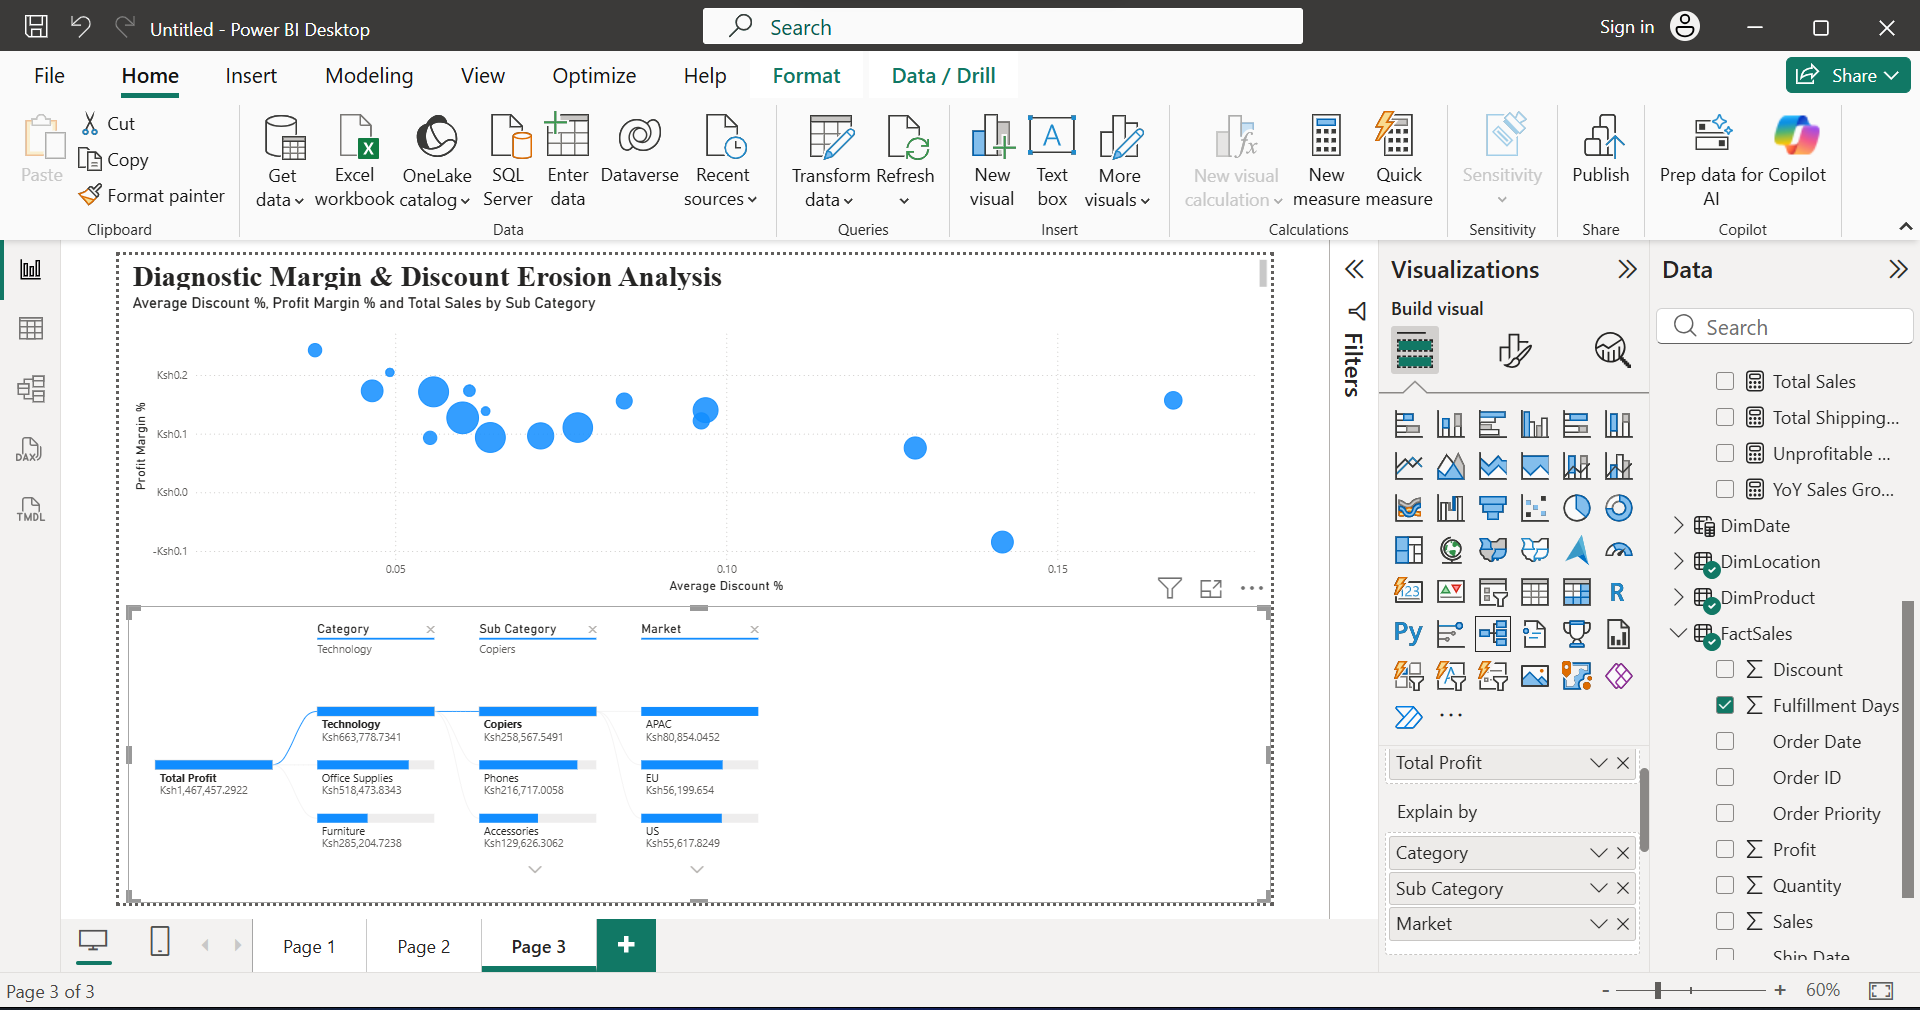

Layout of this report page (visuals, bound fields, positions):
{"tool":"powerbi","page":{"name":"Page 3","canvas":[1280,720],"ordinal":2},"visuals":[{"type":"textbox","box":[10,0,1270,43.3],"z":0},{"type":"scatterChart","fields":{"Category":["DimProduct.Sub Category"],"X":["DimCustomer.Average Discount %"],"Y":["DimCustomer.Profit Margin %"],"Size":["DimCustomer.Total Sales"]},"box":[10,43.3,1270,336.7],"z":1},{"type":"decompositionTreeVisual","fields":{"Analyze":["DimCustomer.Total Profit"],"ExplainBy":["DimProduct.Category","DimProduct.Sub Category","DimLocation.Market"]},"box":[10,390,1270,330],"z":2}]}

Visuals, with their boxes on the page's 1280x720 design canvas (x1, y1, x2, y2). These are canvas units, not pixel positions in the 1920x1010 screenshot, which may show the page scaled, cropped or inside an application window:
textbox: (left=10, top=0, right=1280, bottom=43)
scatterChart - DimProduct.Sub Category x DimCustomer.Average Discount %: (left=10, top=43, right=1280, bottom=380)
decompositionTreeVisual - DimCustomer.Total Profit x DimProduct.Category: (left=10, top=390, right=1280, bottom=720)
